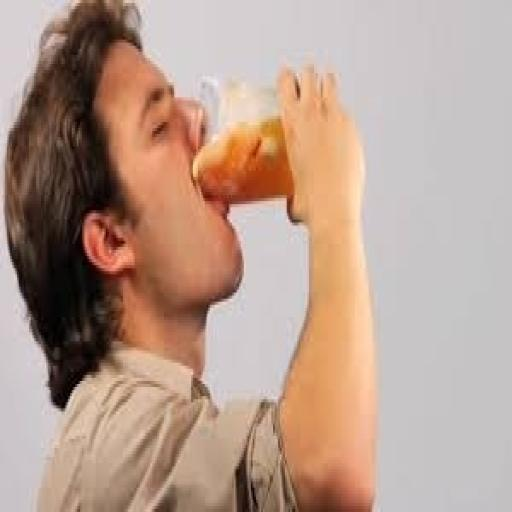drinking: (40, 36, 406, 390)
